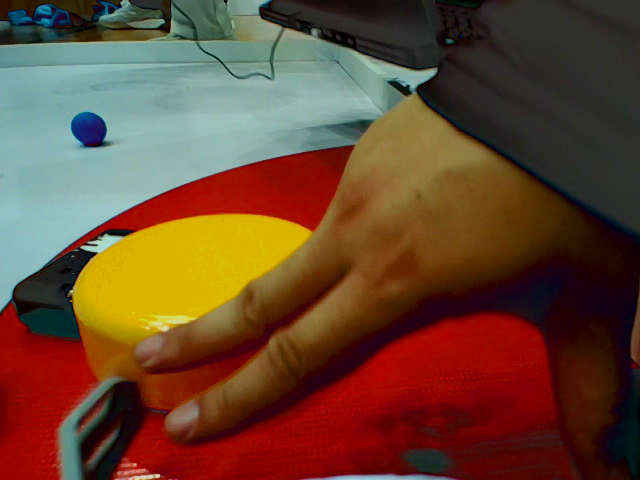black: (6, 224, 153, 340)
blue: (58, 110, 125, 159)
yellow: (75, 197, 361, 411)
